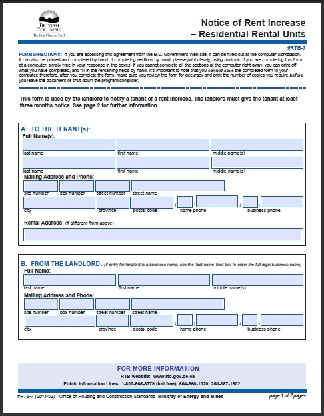textbox: (21, 227, 305, 243), (116, 135, 210, 154), (131, 295, 227, 312), (210, 136, 305, 153), (209, 153, 304, 170), (21, 155, 117, 171), (116, 154, 210, 170), (131, 177, 225, 193), (211, 271, 305, 287), (21, 272, 118, 287), (21, 137, 117, 152), (117, 272, 211, 287), (21, 194, 97, 211), (23, 312, 97, 329), (257, 311, 305, 329), (127, 312, 175, 329), (192, 312, 240, 329), (128, 194, 175, 211), (259, 193, 305, 209), (194, 193, 239, 209), (58, 295, 95, 313), (59, 177, 95, 195), (95, 193, 131, 211), (95, 295, 132, 312), (94, 312, 131, 328), (95, 178, 131, 193), (23, 297, 59, 312), (22, 179, 59, 193), (239, 311, 260, 329), (173, 312, 195, 329), (175, 193, 194, 211), (241, 193, 260, 209)
